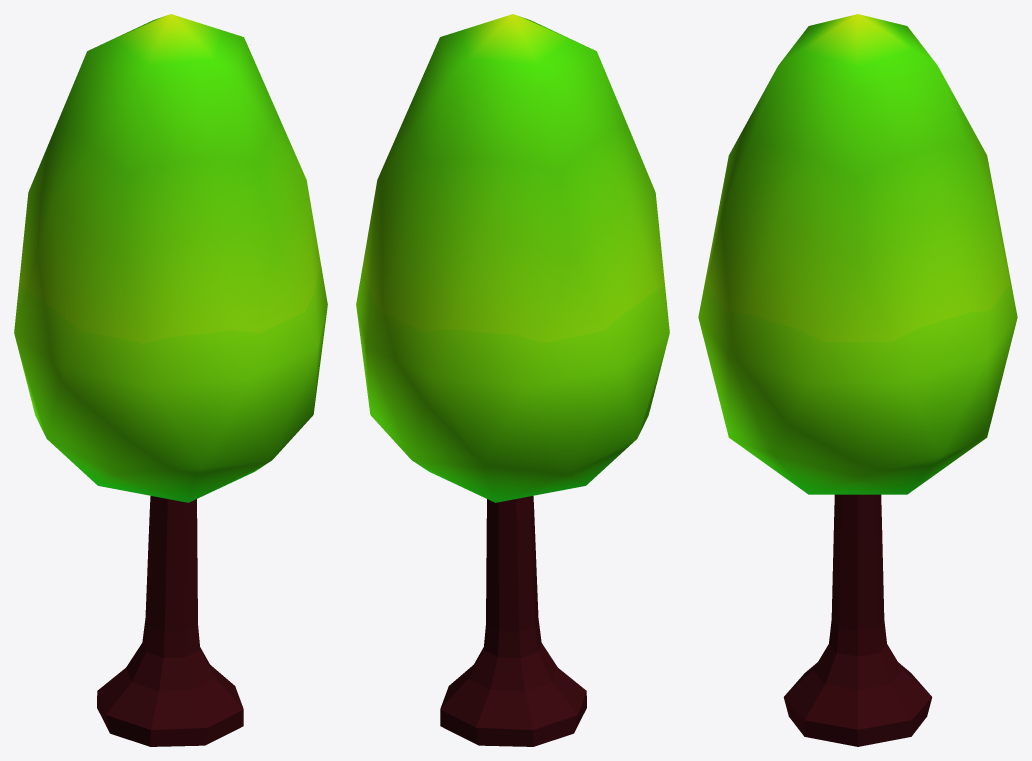
File: Tree_Street.fbx
3 views of the same model, side by side, from view 1: azimuth 30°, elevation 25°; view 2: azimuth 150°, elevation 25°; view 3: azimuth 270°, elevation 25° (orthographic).
Parts seen in each view (by area): view 1: Leaf.006, Stem; view 2: Leaf.006, Stem; view 3: Leaf.006, Stem.
Boxes of the visible parts, left/top/right/bottom form: Leaf.006: left=14, top=14, right=327, bottom=502; Stem: left=97, top=496, right=243, bottom=746; Leaf.006: left=356, top=14, right=669, bottom=502; Stem: left=440, top=496, right=586, bottom=746; Leaf.006: left=698, top=14, right=1017, bottom=494; Stem: left=783, top=494, right=932, bottom=746.
Bounding box in the file's own units: 3.55 × 9.16 × 3.73.
2 materials, 1 textured.
